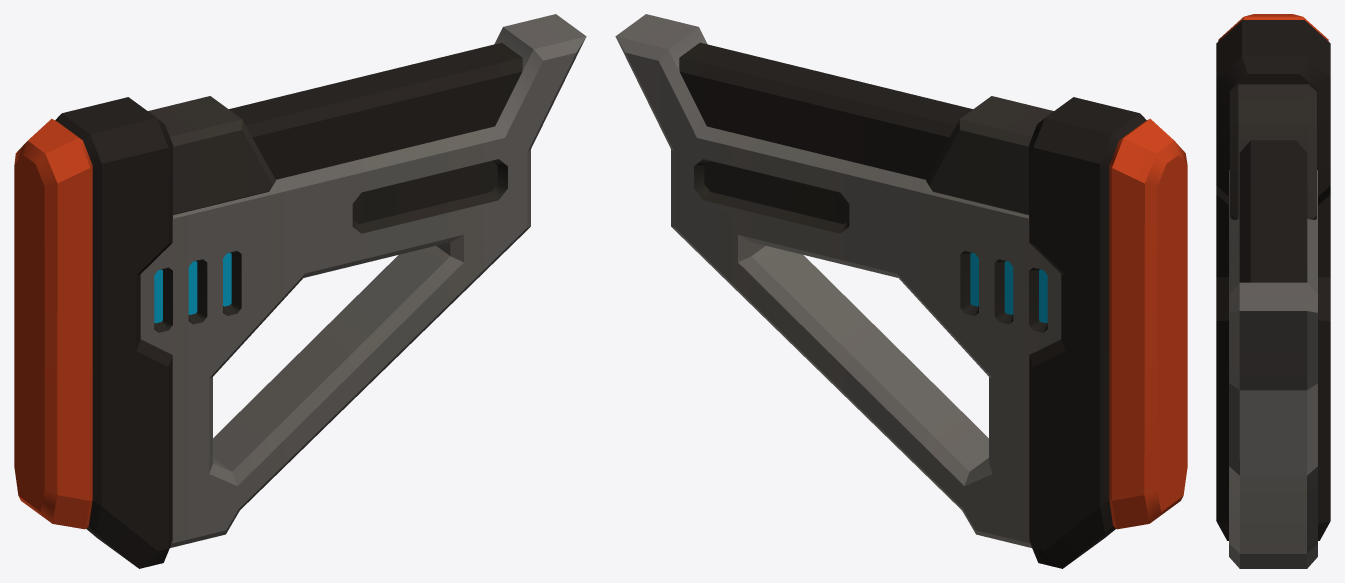
Rendered from SMG4_ButtstockHeavy.fbx.
3 renders of one model, left to right at view 1: azimuth 30°, elevation 25°; view 2: azimuth 150°, elevation 25°; view 3: azimuth 270°, elevation 25°, orthographic. The views are drawn at different scales.
Visible parts, largest first — view 1: SMG4_ButtstockHeavy; view 2: SMG4_ButtstockHeavy; view 3: SMG4_ButtstockHeavy.
Boxes of the visible parts, left/top/right/bottom form: SMG4_ButtstockHeavy: left=14, top=14, right=586, bottom=568; SMG4_ButtstockHeavy: left=615, top=14, right=1187, bottom=568; SMG4_ButtstockHeavy: left=1216, top=14, right=1330, bottom=568.
Bounding box in the file's own units: 17.66 × 13.72 × 2.93.
